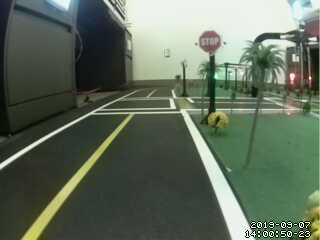Stop_Sign: (191, 24, 230, 60)
